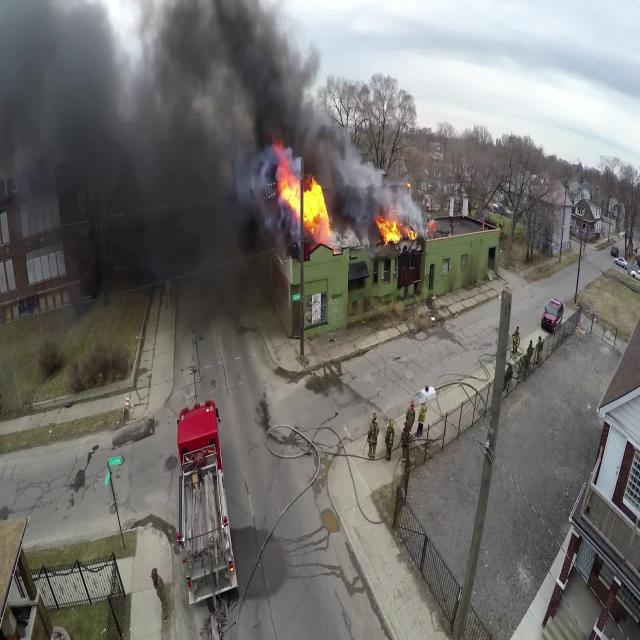fire: (378, 217, 406, 244)
smoke: (59, 22, 246, 258), (256, 20, 319, 136), (319, 141, 376, 200)
